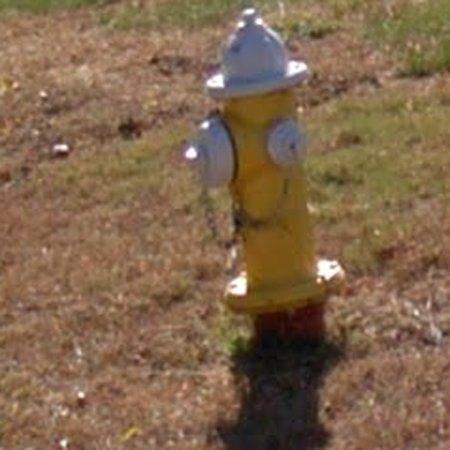a fire hydrant: (185, 8, 342, 345)
